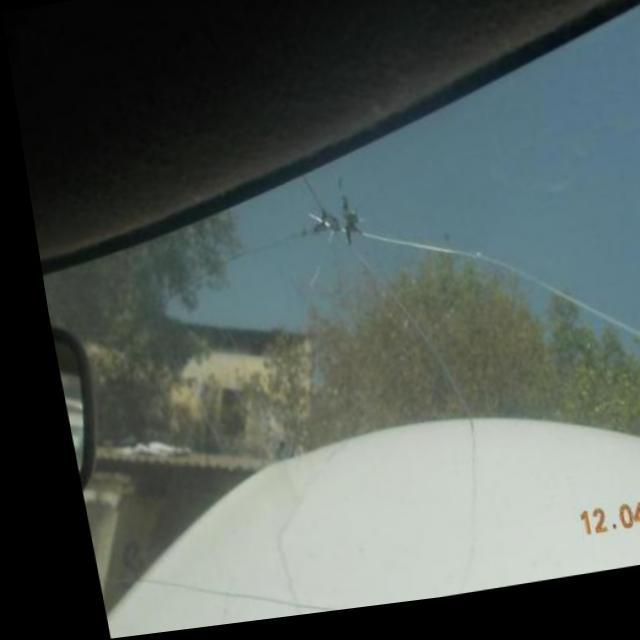glass shatter: (292, 186, 377, 278)
